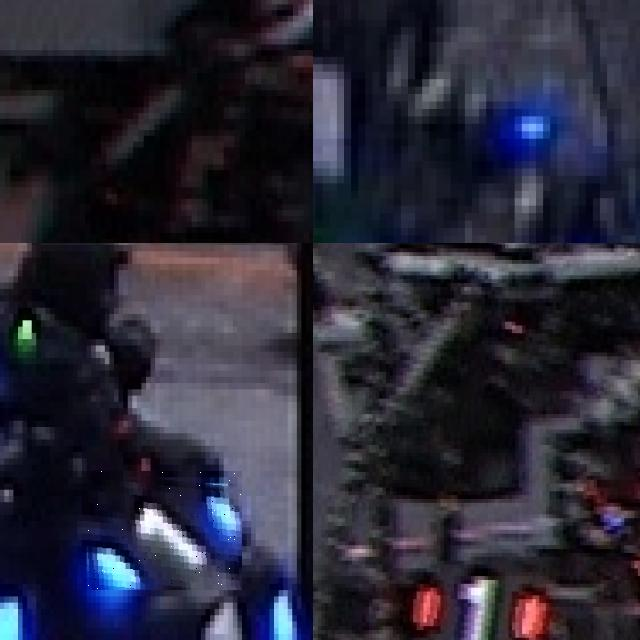B1: (82, 471, 242, 590), (150, 590, 301, 640)
R1: (398, 566, 541, 640)
